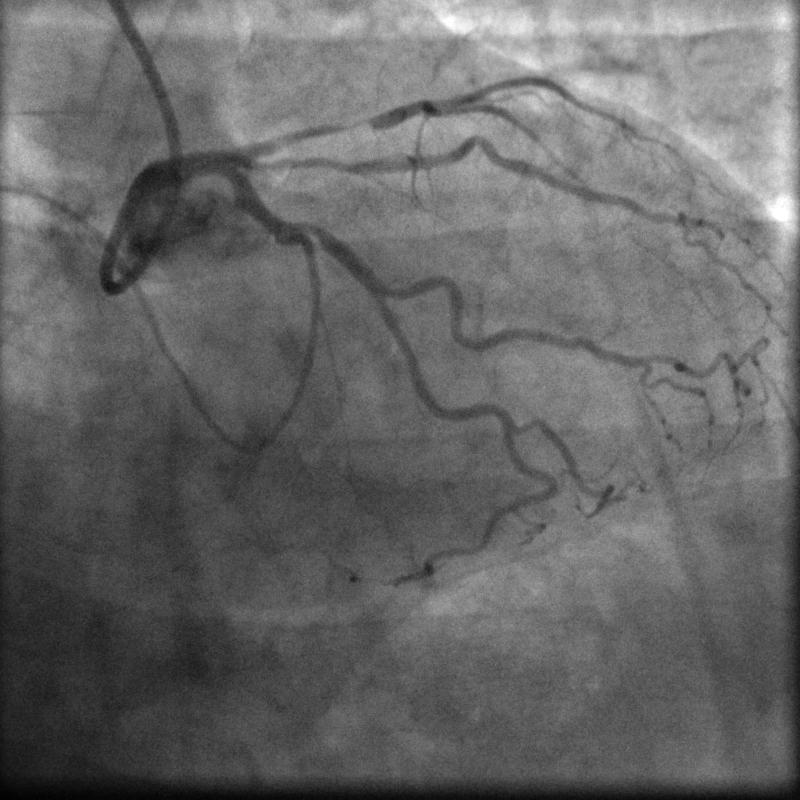Stenosis: (302, 218, 327, 243)
